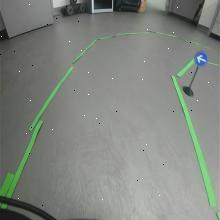left: (194, 50, 208, 67)
